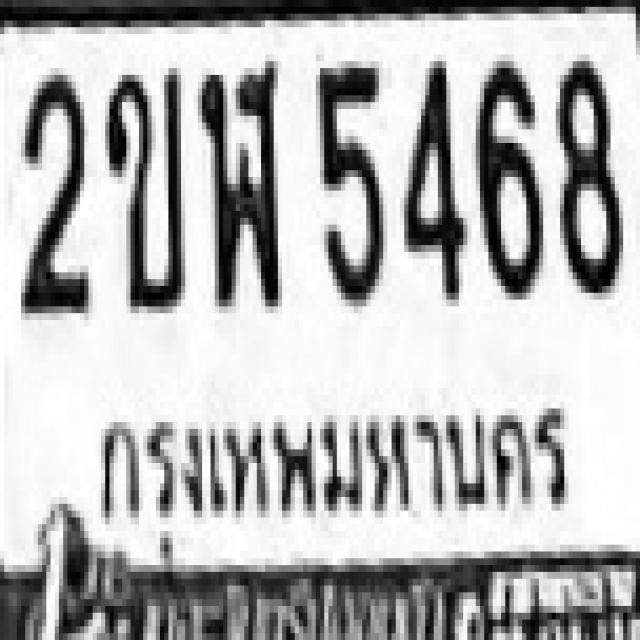11KhorKhai: (101, 61, 181, 306)
2: (15, 64, 86, 310)
4: (400, 54, 463, 293)
5: (314, 54, 381, 300)
51LorChula: (198, 58, 278, 303)
6: (472, 54, 539, 293)
8: (552, 54, 619, 293)
Bangkok: (82, 397, 582, 559)
